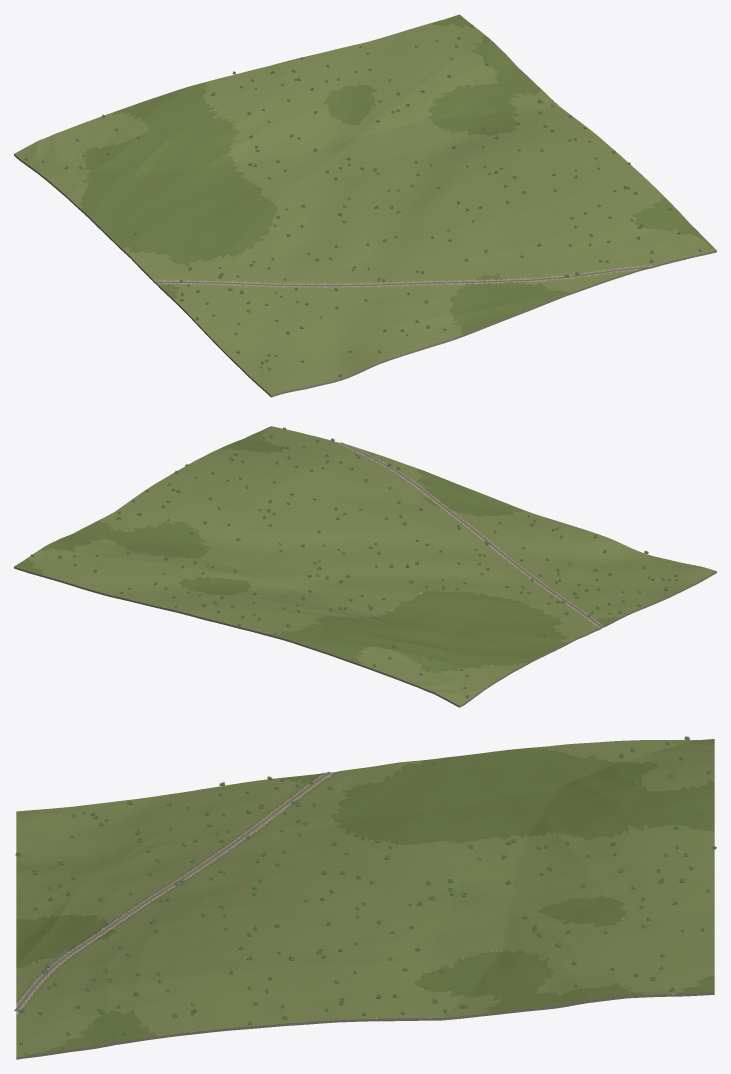
The model's file is parca_+6_-1-yakin.glb.
3 views of the same model, one above another, from view 1: azimuth 30°, elevation 25°; view 2: azimuth 150°, elevation 25°; view 3: azimuth 270°, elevation 25° (orthographic). The views are drawn at different scales.
Visible parts, largest first — view 1: parca_+6_-1_arazi, parca_+6_-1_bitkiler, parca_+6_-1_yollar; view 2: parca_+6_-1_arazi, parca_+6_-1_bitkiler, parca_+6_-1_yollar; view 3: parca_+6_-1_arazi, parca_+6_-1_bitkiler, parca_+6_-1_yollar.
Boxes of the visible parts, <box> form: parca_+6_-1_arazi: <box>14,14,716,397</box>; parca_+6_-1_bitkiler: <box>24,24,701,377</box>; parca_+6_-1_yollar: <box>155,267,647,286</box>; parca_+6_-1_arazi: <box>14,426,716,707</box>; parca_+6_-1_bitkiler: <box>30,427,678,697</box>; parca_+6_-1_yollar: <box>340,442,602,627</box>; parca_+6_-1_arazi: <box>16,739,714,1059</box>; parca_+6_-1_bitkiler: <box>15,736,716,1045</box>; parca_+6_-1_yollar: <box>14,771,331,1011</box>.
Bounding box in the file's own units: 1002 × 190 × 1006.
